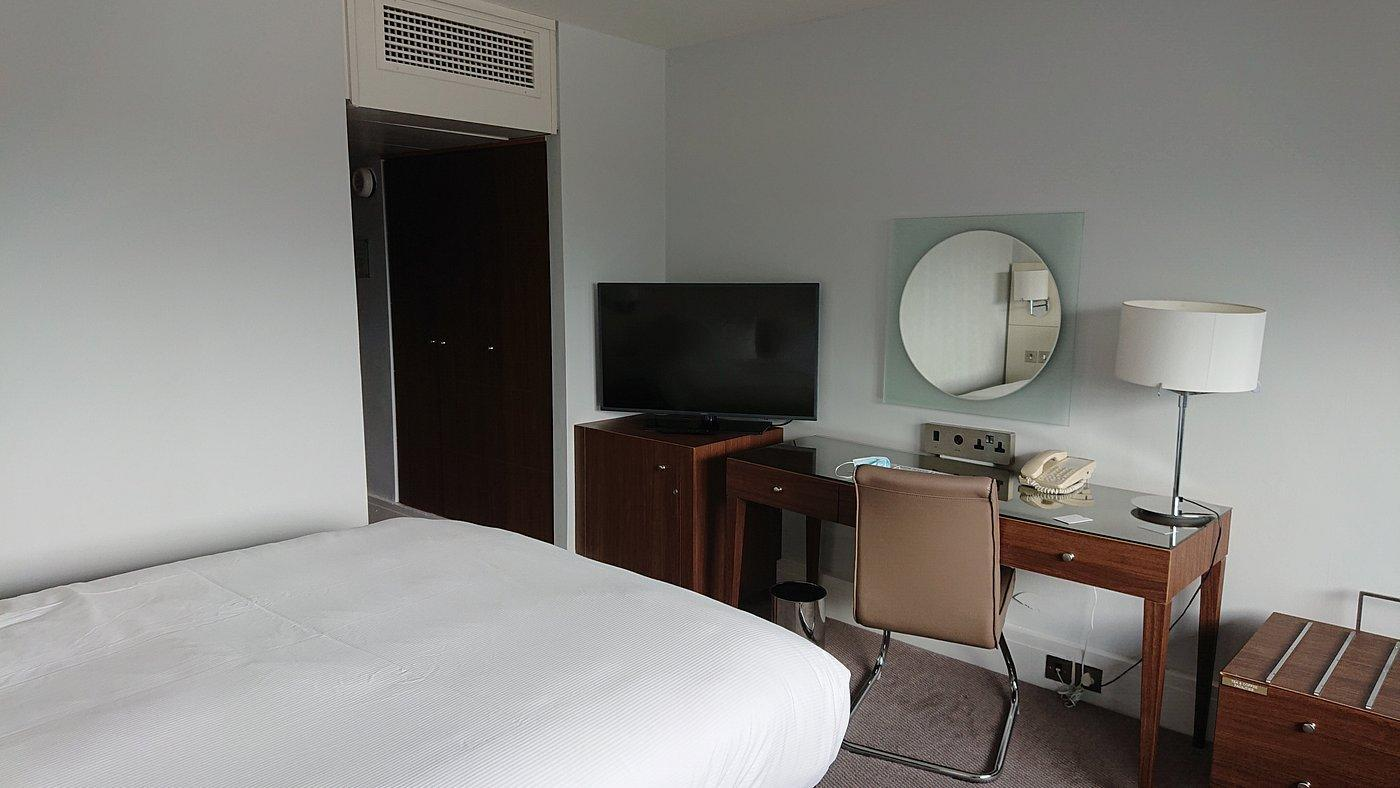chair: (848, 465, 1029, 781)
clean_bed: (6, 516, 836, 787)
lamp: (1118, 296, 1261, 524)
organized table: (555, 381, 1229, 780)
